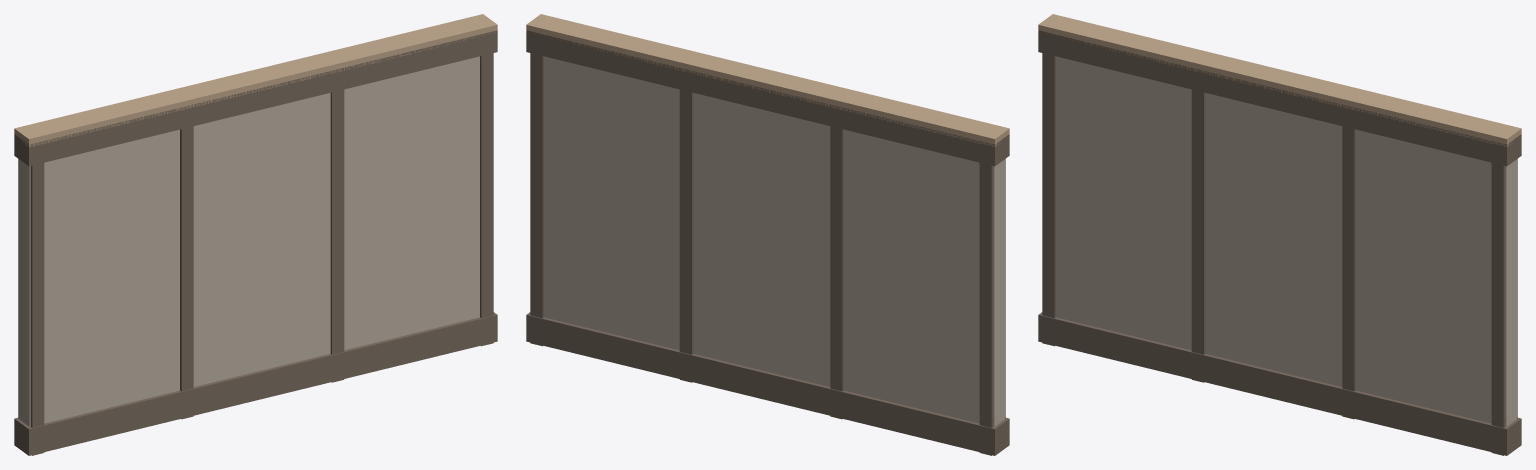
The model's file is wall_plain_4m.glb.
The picture shows the model from 3 angles, left to right: view 1: azimuth 30°, elevation 25°; view 2: azimuth 150°, elevation 25°; view 3: azimuth 330°, elevation 25°; orthographic projection.
Parts seen in each view (by area): view 1: plaster, wood_dark, wood_light; view 2: plaster, wood_dark, wood_light; view 3: plaster, wood_dark, wood_light.
Boxes of the visible parts, x1,y1,x2,y2 form: plaster: [19, 56, 479, 426]; wood_dark: [14, 30, 497, 455]; wood_light: [14, 14, 497, 147]; plaster: [544, 56, 1004, 426]; wood_dark: [526, 30, 1009, 455]; wood_light: [526, 14, 1009, 146]; plaster: [1056, 56, 1516, 426]; wood_dark: [1038, 30, 1521, 455]; wood_light: [1038, 14, 1521, 146].
Size of the model in its own units: 4.05 by 2.62 by 0.22.
